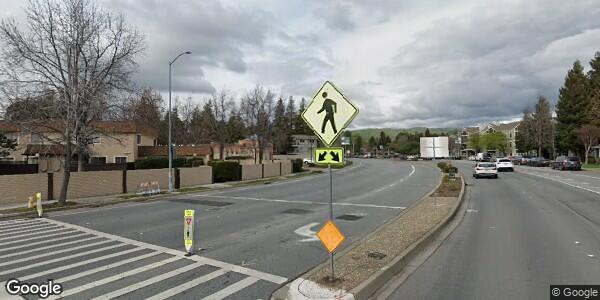Steel_Pole: (165, 49, 194, 197)
